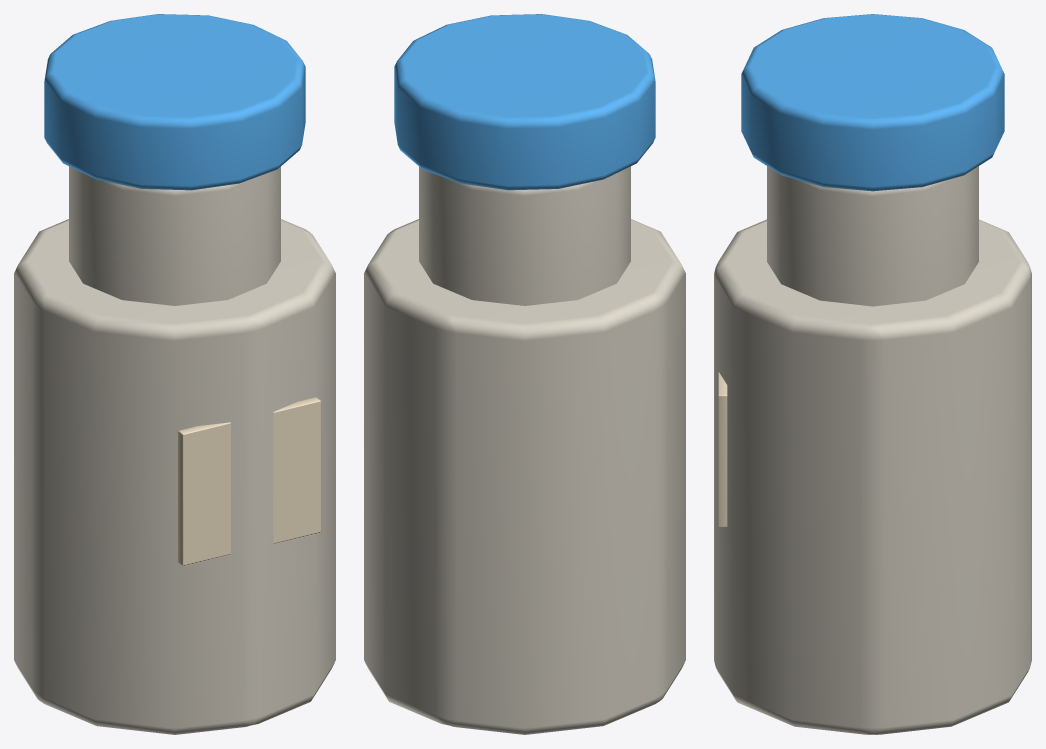
Rendered from milk-bottle.glb.
The picture shows the model from 3 angles, left to right: view 1: azimuth 30°, elevation 25°; view 2: azimuth 150°, elevation 25°; view 3: azimuth 270°, elevation 25°; orthographic projection.
Visible parts, largest first — view 1: faceted milk bottle body, blue bottle cap, narrow milk neck, subtle bottle label; view 2: faceted milk bottle body, blue bottle cap, narrow milk neck; view 3: faceted milk bottle body, blue bottle cap, narrow milk neck, subtle bottle label.
Boxes of the visible parts, x1,y1,x2,y2 form: faceted milk bottle body: [14, 219, 335, 734]; blue bottle cap: [44, 14, 305, 190]; narrow milk neck: [69, 166, 280, 305]; subtle bottle label: [178, 397, 321, 566]; faceted milk bottle body: [364, 219, 685, 734]; blue bottle cap: [394, 14, 655, 190]; narrow milk neck: [419, 166, 630, 305]; faceted milk bottle body: [714, 219, 1031, 734]; blue bottle cap: [741, 14, 1004, 191]; narrow milk neck: [767, 166, 978, 306]; subtle bottle label: [718, 372, 727, 526].
Size of the model in its own units: 0.4345 by 0.915 by 0.4345.
